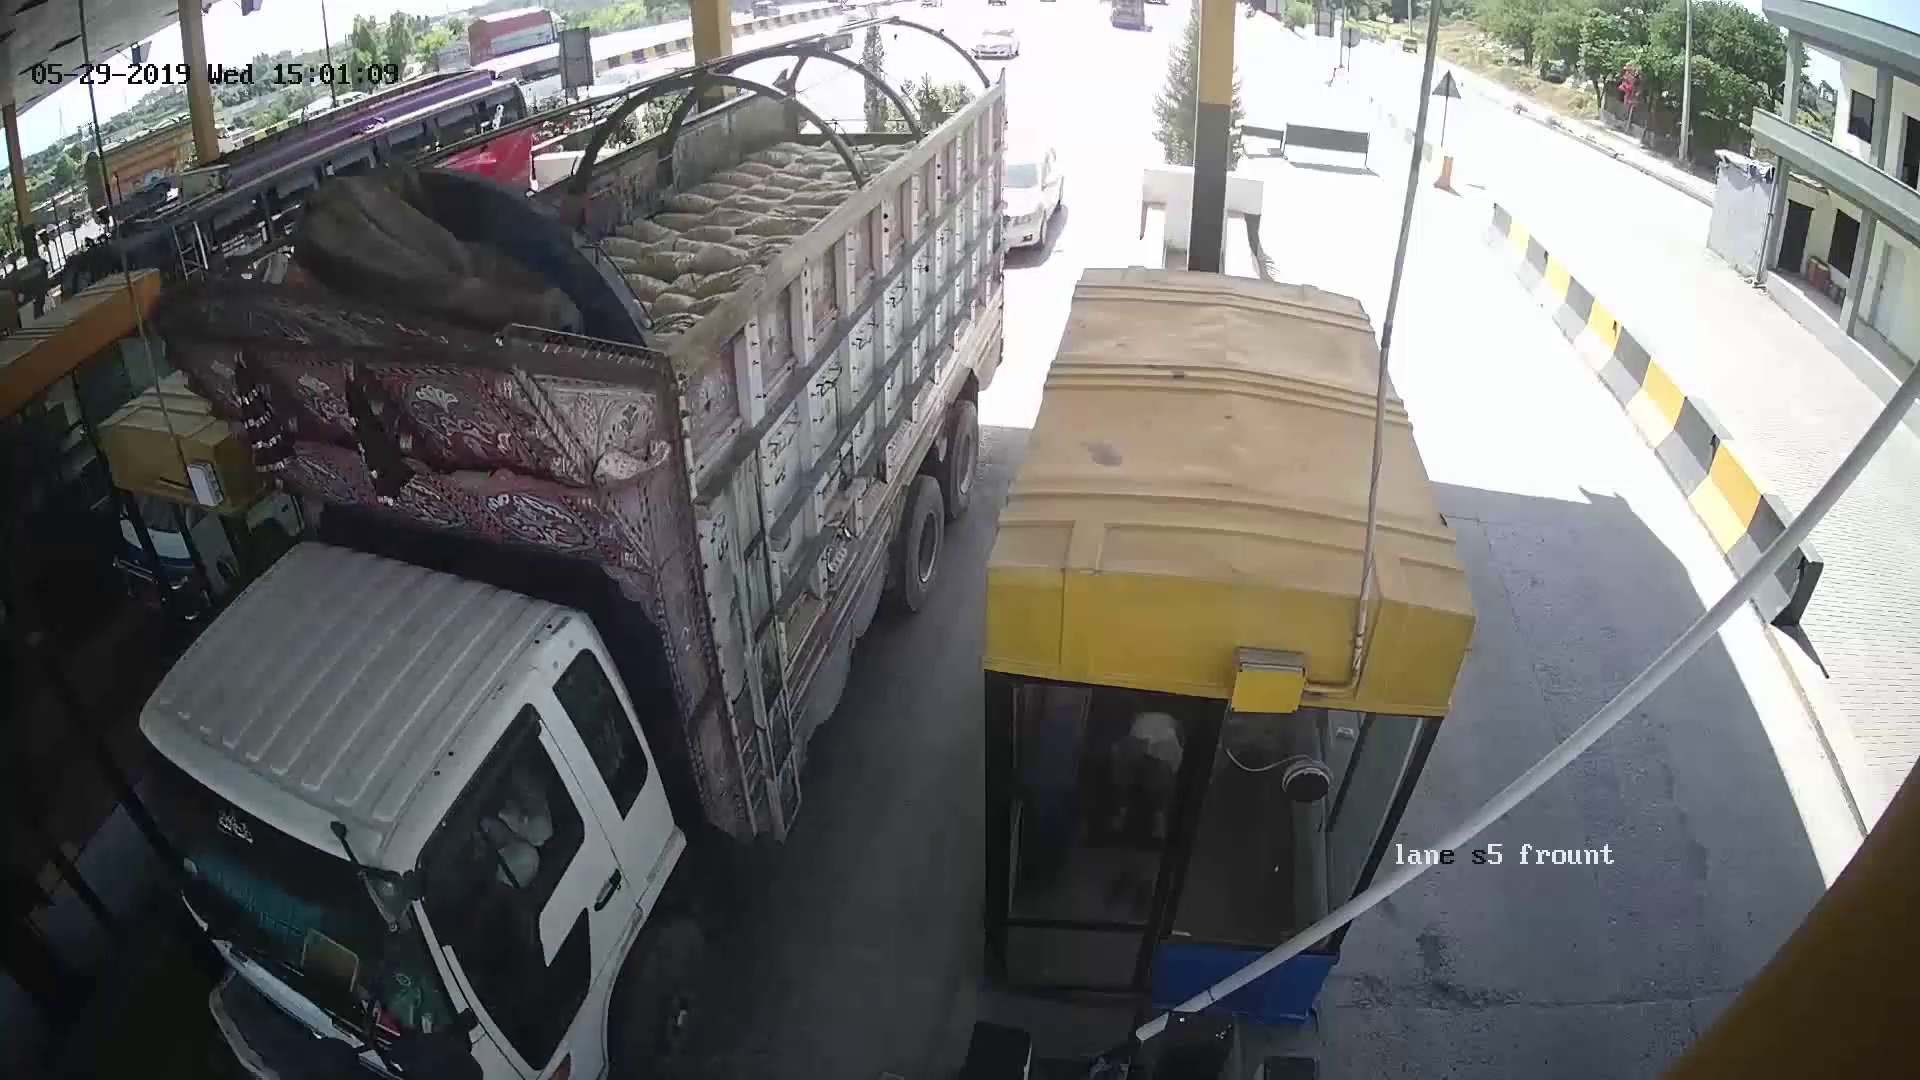truck: (206, 179, 884, 951)
